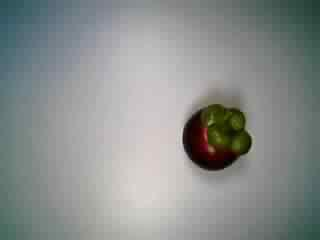mangosteen: (175, 99, 261, 173)
